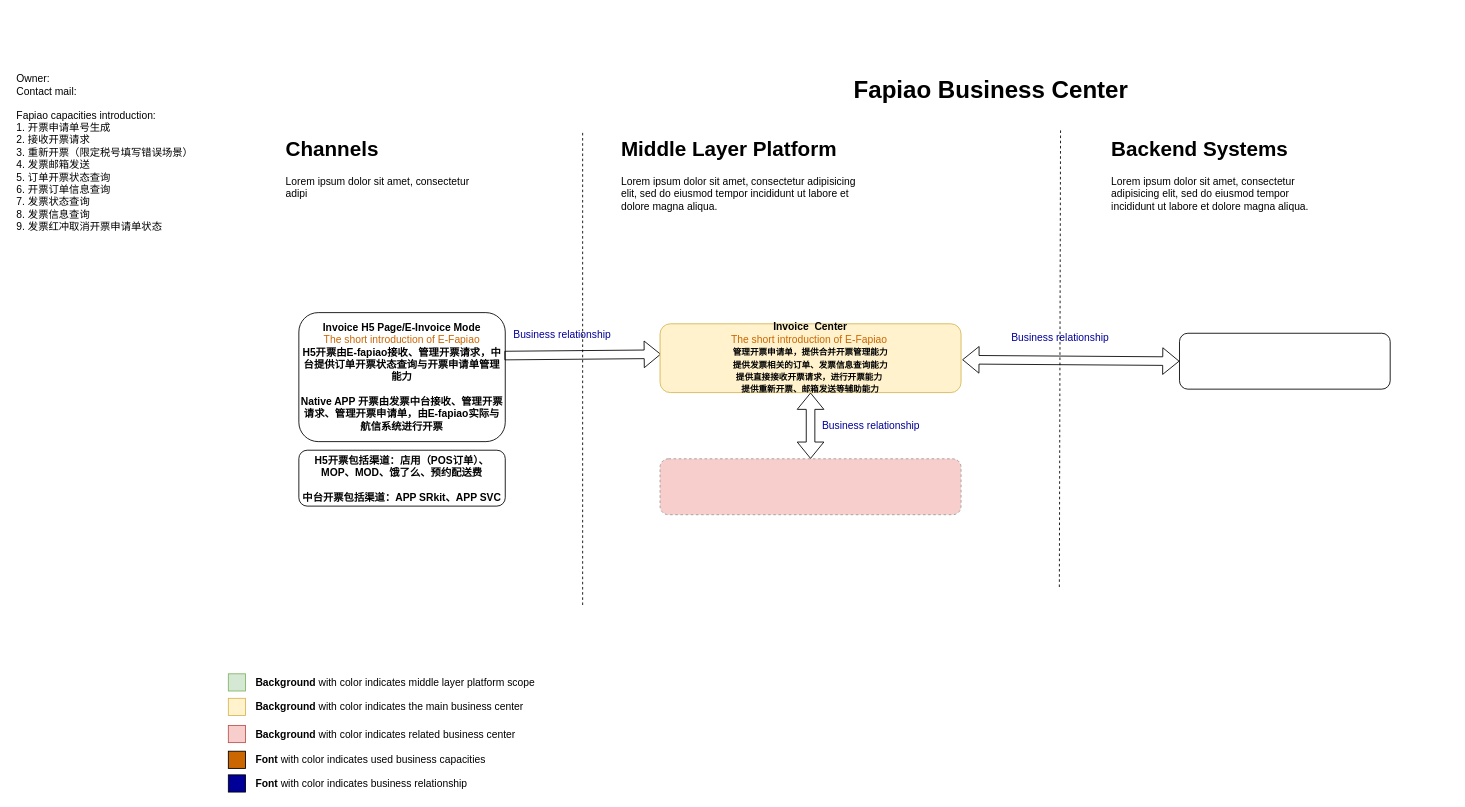
Image size: 1465x807. Some labels were removed from this diagram. The shapes that lost their labels are listed below. From the top down, each one's centre as x and y in pixels, then its label:
[1284,360]: E - Fapiao The short introduction of E-Fapiao
[810,486]: Order Center
